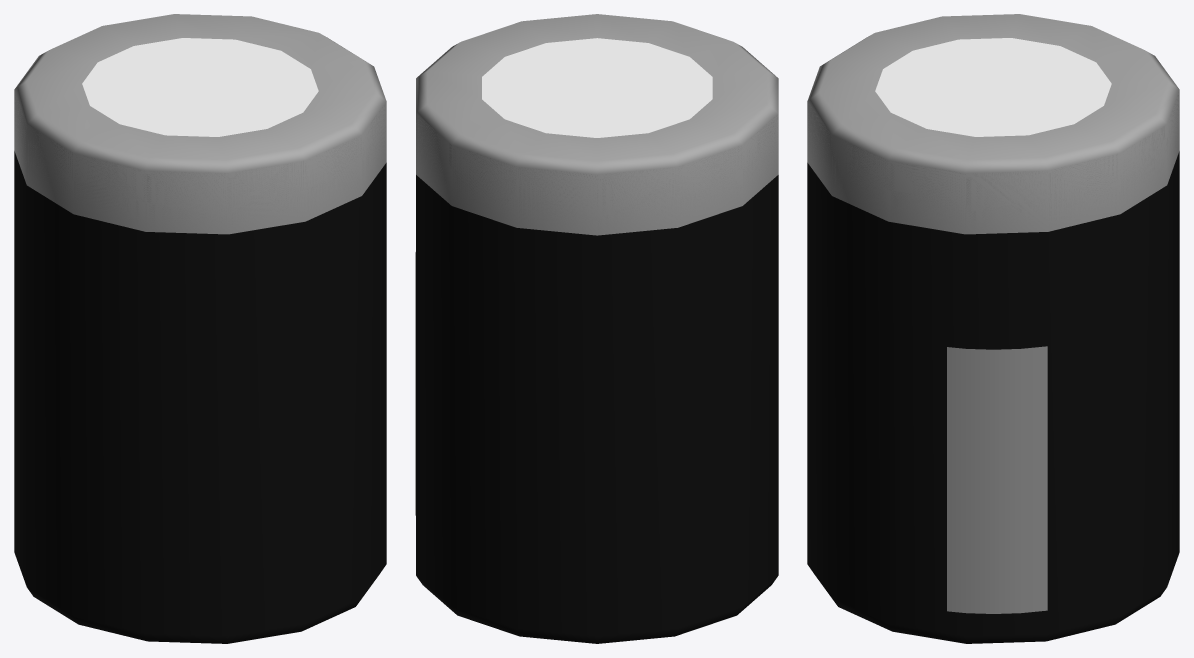
Rendered from Pot_Coffee.fbx.
The picture shows the model from 3 angles, left to right: view 1: azimuth 30°, elevation 25°; view 2: azimuth 150°, elevation 25°; view 3: azimuth 270°, elevation 25°; orthographic projection.
Visible parts, largest first — view 1: Coffee_Pot; view 2: Coffee_Pot; view 3: Coffee_Pot.
Part boxes in pixels (bbox=[...]): Coffee_Pot: bbox=[14, 14, 386, 643]; Coffee_Pot: bbox=[415, 14, 778, 643]; Coffee_Pot: bbox=[807, 14, 1179, 643].
Bounding box in the file's own units: 0.1855 × 0.2652 × 0.1855.
